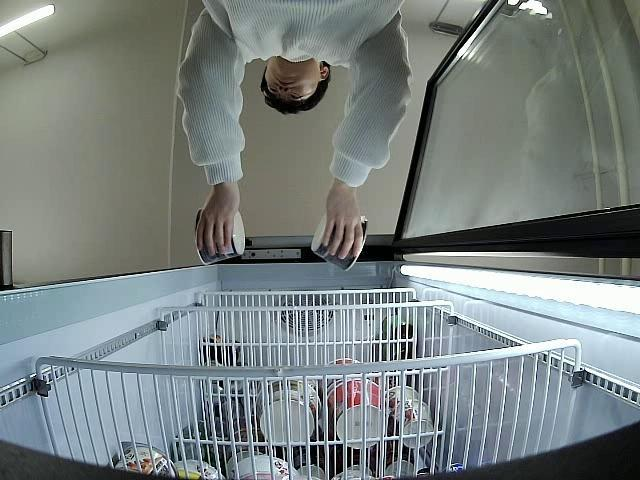07_buldak_L: (312, 212, 370, 272), (195, 206, 246, 267)
